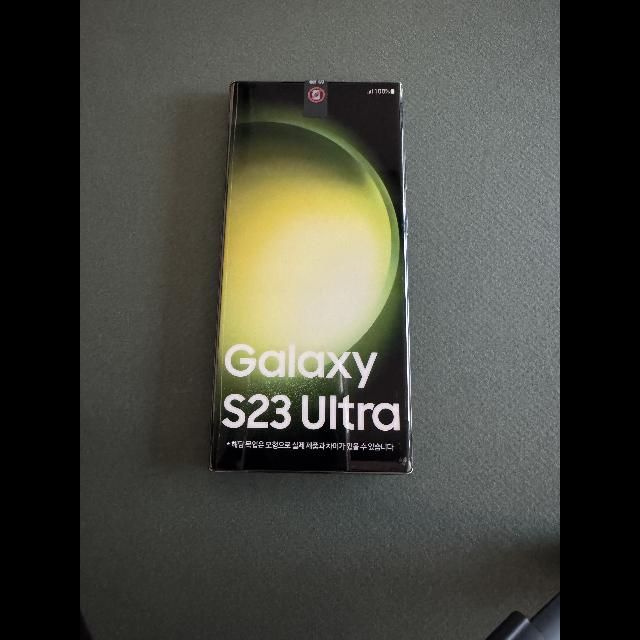phone: (209, 81, 412, 474)
sticker: (303, 79, 328, 119)
